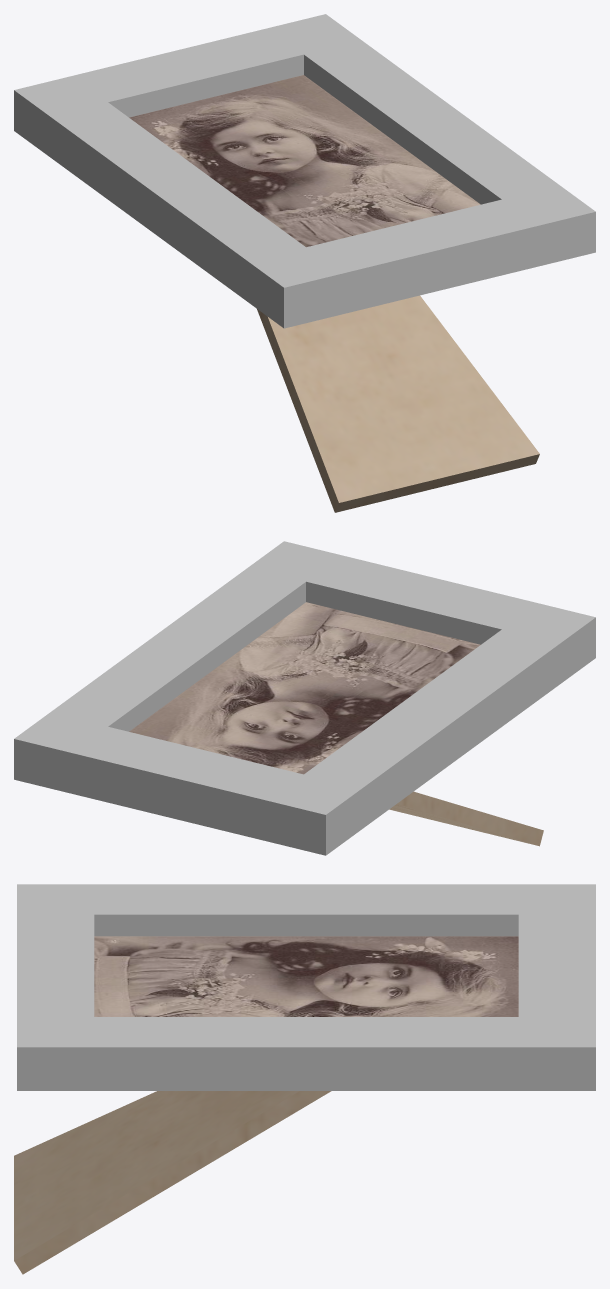
The model's file is PictureFrameB.fbx.
3 views of the same model, one above another, from view 1: azimuth 30°, elevation 25°; view 2: azimuth 150°, elevation 25°; view 3: azimuth 270°, elevation 25° (orthographic). The views are drawn at different scales.
Visible parts, largest first — view 1: Cube; view 2: Cube; view 3: Cube.
Boxes of the visible parts, left/top/right/bottom form: Cube: left=14, top=14, right=595, bottom=512; Cube: left=14, top=541, right=595, bottom=855; Cube: left=14, top=884, right=595, bottom=1274.
Size of the model in its own units: 0.2 by 0.1471 by 0.3016.
